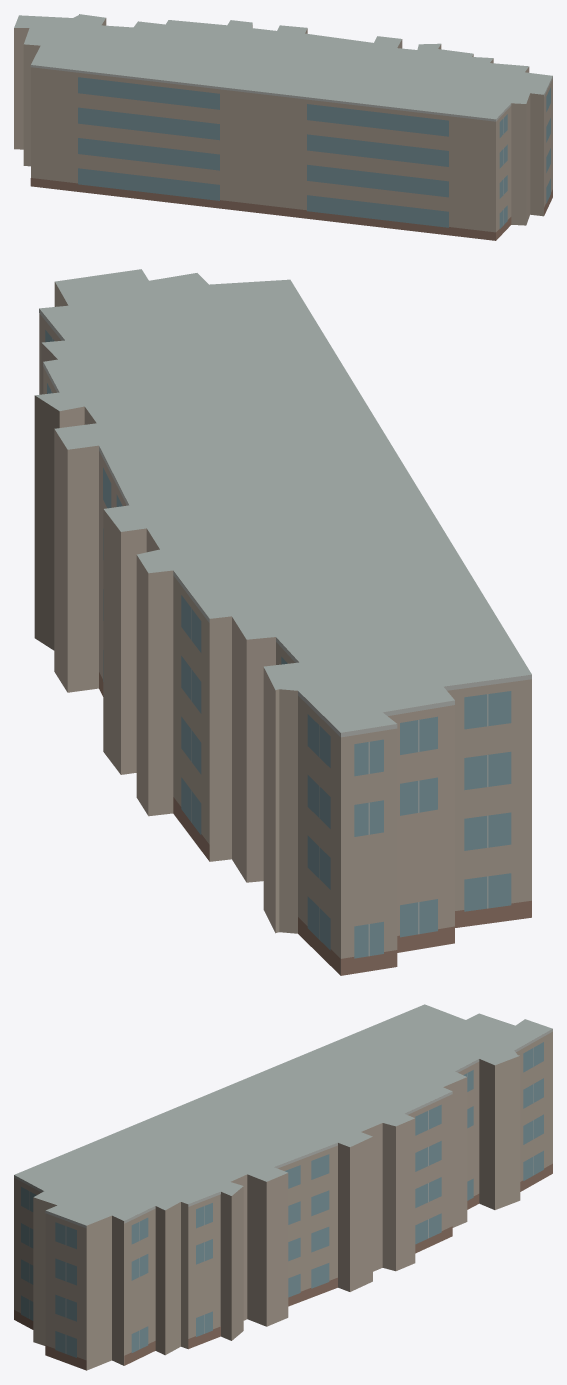
Rendered from survey-upis-32680622.glb.
3 views of the same model, one above another, from view 1: azimuth 30°, elevation 25°; view 2: azimuth 150°, elevation 25°; view 3: azimuth 270°, elevation 25° (orthographic). The views are drawn at different scales.
Visible parts, largest first — view 1: survey-upis-32680622.tmp; view 2: survey-upis-32680622.tmp; view 3: survey-upis-32680622.tmp.
Boxes of the visible parts, bbox=[...] form: survey-upis-32680622.tmp: bbox=[14, 14, 552, 240]; survey-upis-32680622.tmp: bbox=[34, 269, 531, 975]; survey-upis-32680622.tmp: bbox=[14, 1004, 552, 1370].
Size of the model in its own units: 42.27 by 12.9 by 43.49.
